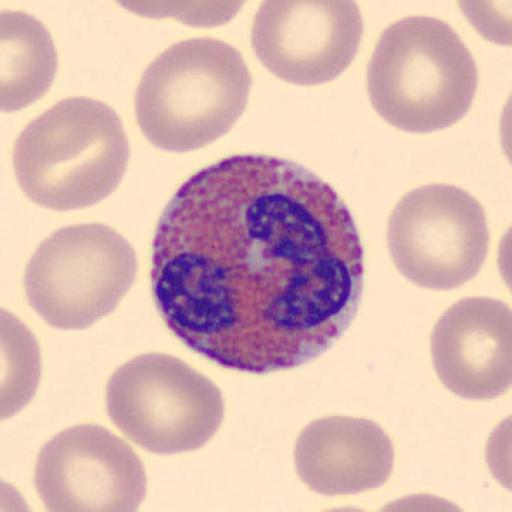RBC: (132, 34, 255, 155), (10, 93, 132, 214), (364, 13, 481, 137), (103, 348, 227, 458), (21, 220, 140, 334), (384, 180, 492, 294), (32, 420, 149, 512), (250, 0, 364, 89), (291, 411, 397, 500), (428, 293, 512, 402), (2, 7, 59, 114), (2, 306, 42, 422), (102, 0, 254, 30), (303, 492, 482, 512), (453, 0, 512, 48), (166, 0, 254, 31), (483, 409, 512, 500), (360, 491, 482, 512), (101, 0, 220, 21), (495, 61, 512, 183), (495, 209, 512, 303), (0, 475, 34, 512), (495, 222, 512, 296), (498, 91, 512, 173), (301, 503, 392, 512)
WBC: (144, 156, 368, 376)
